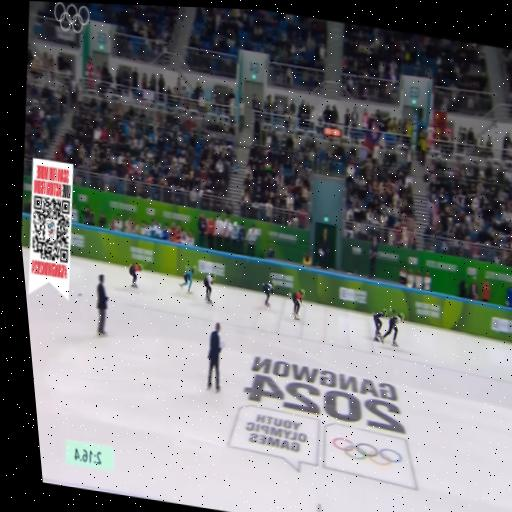Skater: (380, 309, 403, 347), (126, 262, 146, 289), (372, 309, 387, 342), (179, 266, 195, 293), (290, 289, 303, 320), (262, 281, 275, 307), (203, 273, 214, 303)
